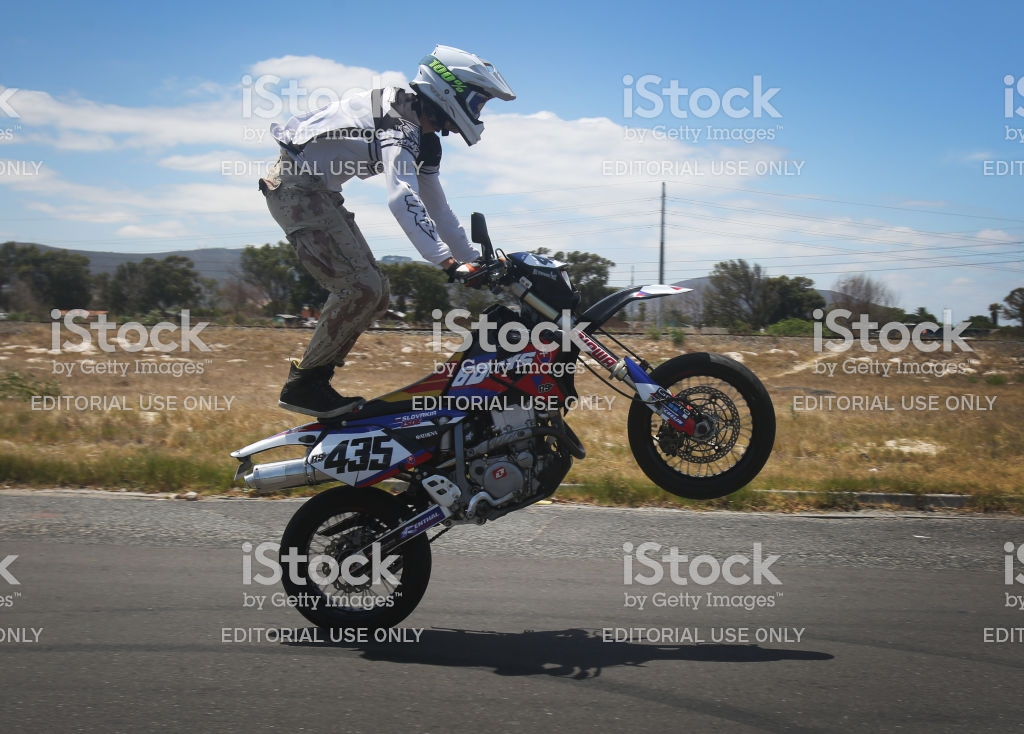helmet: (411, 43, 508, 141)
